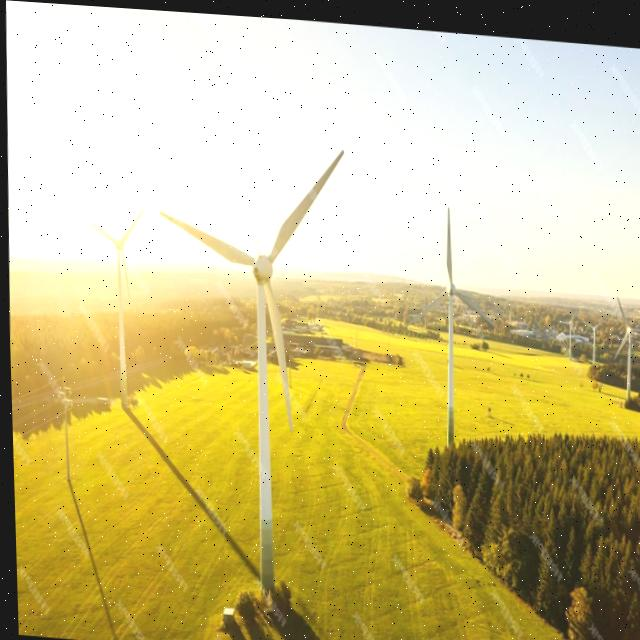solid-blade: (267, 146, 343, 258), (158, 211, 252, 261), (262, 275, 289, 426), (453, 286, 492, 320), (405, 285, 445, 318), (444, 202, 451, 276)
